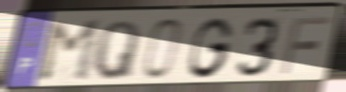0: (140, 16, 187, 83)
3: (235, 15, 281, 78)
F: (278, 14, 333, 76)
G: (186, 16, 236, 81)
M: (36, 18, 103, 85)
Q: (90, 18, 142, 82)
